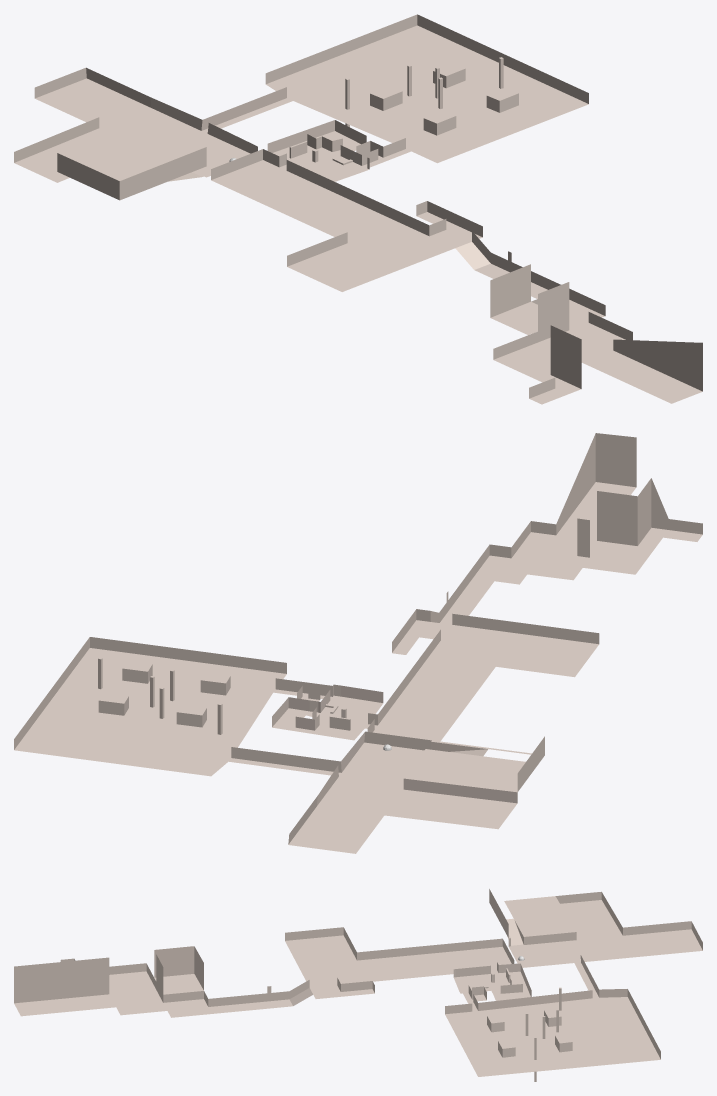
File: staticScene.glb
3 views of the same model, one above another, from view 1: azimuth 30°, elevation 25°; view 2: azimuth 150°, elevation 25°; view 3: azimuth 270°, elevation 25° (orthographic). The views are drawn at different scales.
Visible parts, largest first — view 1: Cube; view 2: Cube; view 3: Cube.
Boxes of the visible parts, left/top/right/bottom form: Cube: left=14, top=14, right=702, bottom=404; Cube: left=14, top=433, right=702, bottom=853; Cube: left=14, top=889, right=702, bottom=1081.
Bounding box in the file's own units: 117 × 15.15 × 193.
